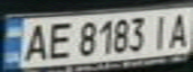1: (96, 17, 115, 55)
3: (127, 15, 151, 53)
8: (75, 18, 100, 56), (112, 16, 133, 54)
A: (18, 20, 51, 63), (163, 9, 193, 48)
E: (42, 19, 75, 61)
I: (148, 11, 175, 51)
